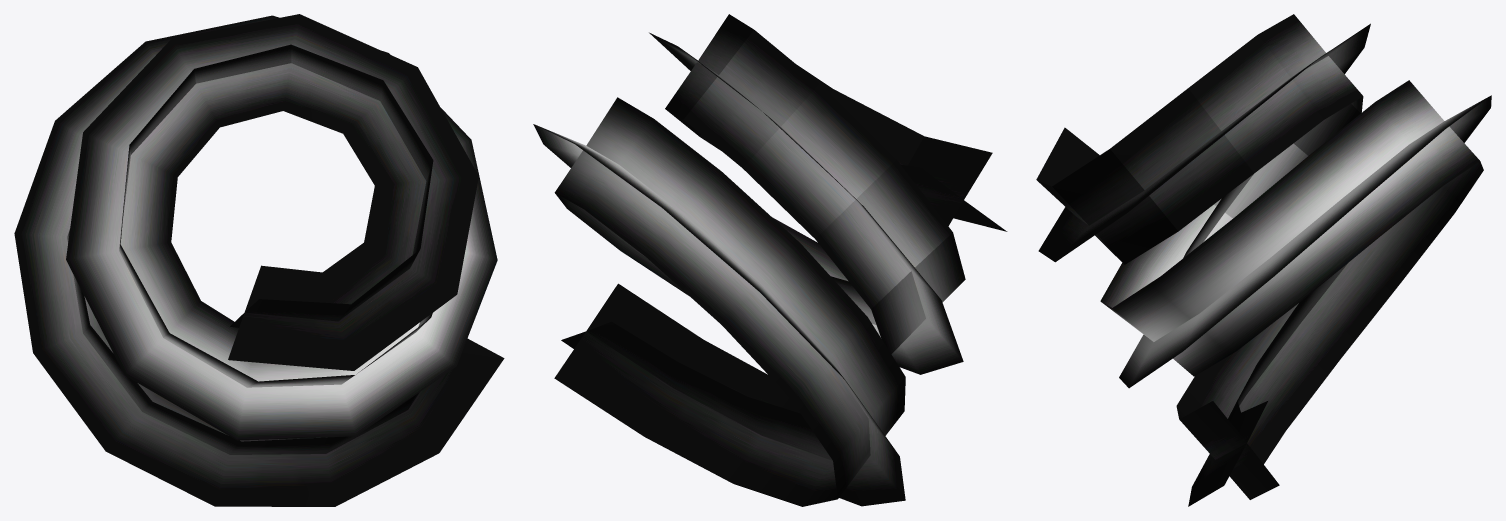
File: vfx_kurp_0013.dae
3 views of the same model, side by side, from view 1: azimuth 30°, elevation 25°; view 2: azimuth 150°, elevation 25°; view 3: azimuth 270°, elevation 25° (orthographic). The views are drawn at different scales.
Visible parts, largest first — view 1: vfx_kurp_0013; view 2: vfx_kurp_0013; view 3: vfx_kurp_0013.
Boxes of the visible parts, box(x1,y1,x2,y2) form: vfx_kurp_0013: box(14, 14, 504, 506); vfx_kurp_0013: box(533, 14, 1007, 506); vfx_kurp_0013: box(1036, 14, 1491, 506).
Size of the model in its own units: 4.83 by 4.74 by 5.13.
Materials: 1 (1 with a texture image).
